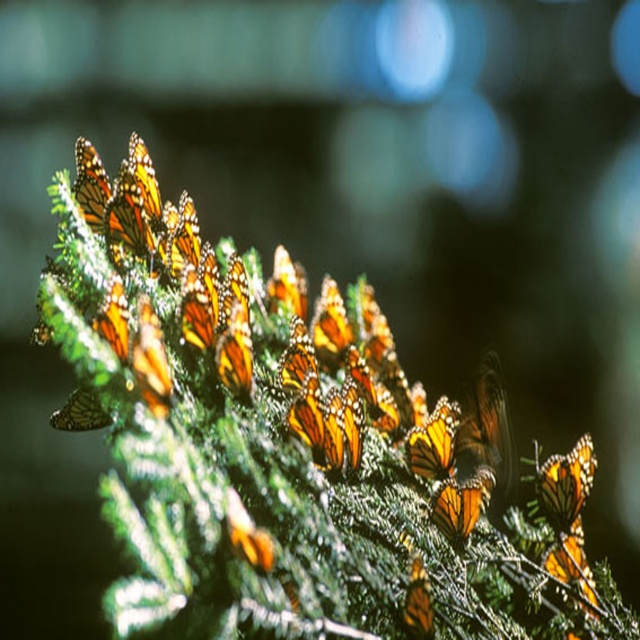Moths and butterflies: (26, 126, 603, 639)
